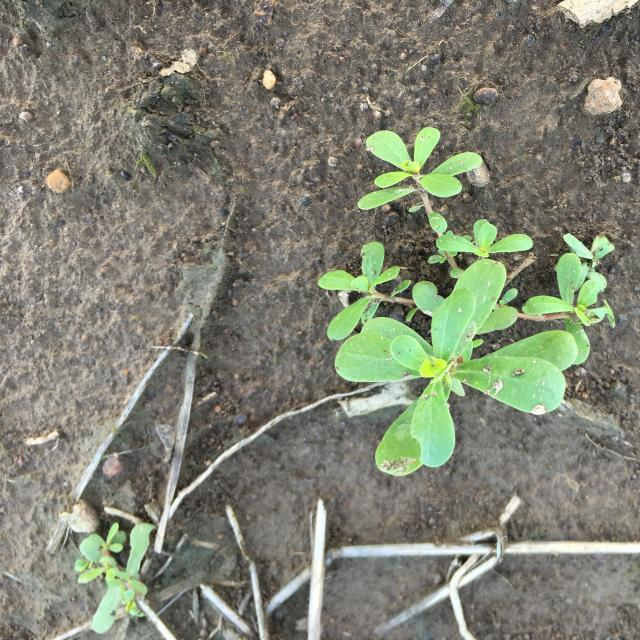Purslane: (318, 127, 615, 476), (75, 522, 155, 634)
